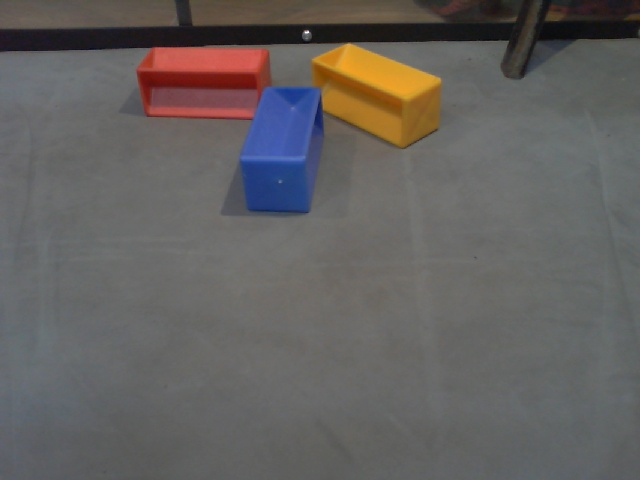BlueSample: (239, 81, 325, 218)
RedSample: (132, 42, 274, 120)
YellowSample: (309, 39, 443, 149)
